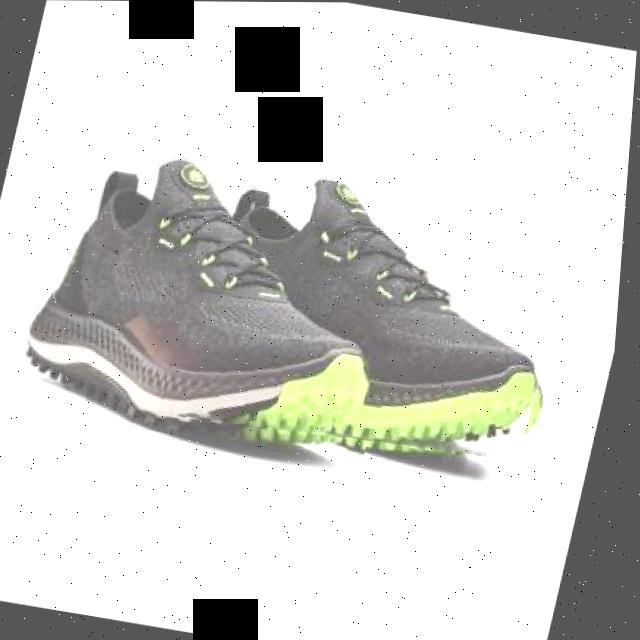shoe: (162, 161, 593, 476), (17, 140, 430, 466)
